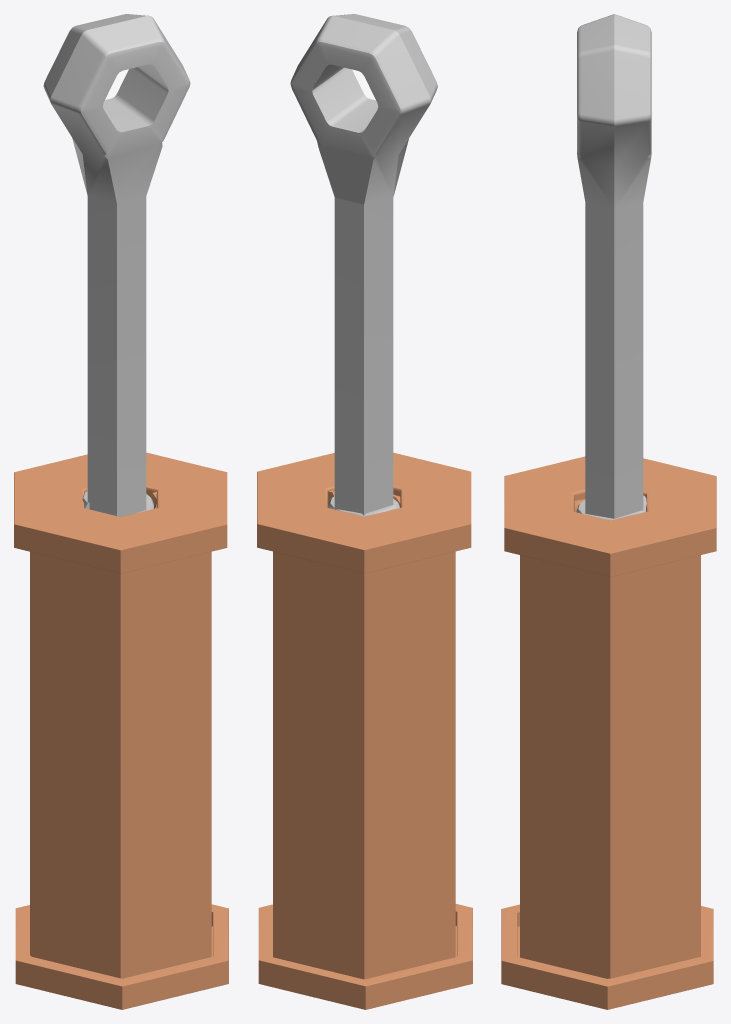
File: bubble_GLTF_color_ALL_plastic.glb
3 views of the same model, side by side, from view 1: azimuth 30°, elevation 25°; view 2: azimuth 150°, elevation 25°; view 3: azimuth 270°, elevation 25° (orthographic).
Size of the model in its own units: 4.98 by 20.83 by 4.37.
